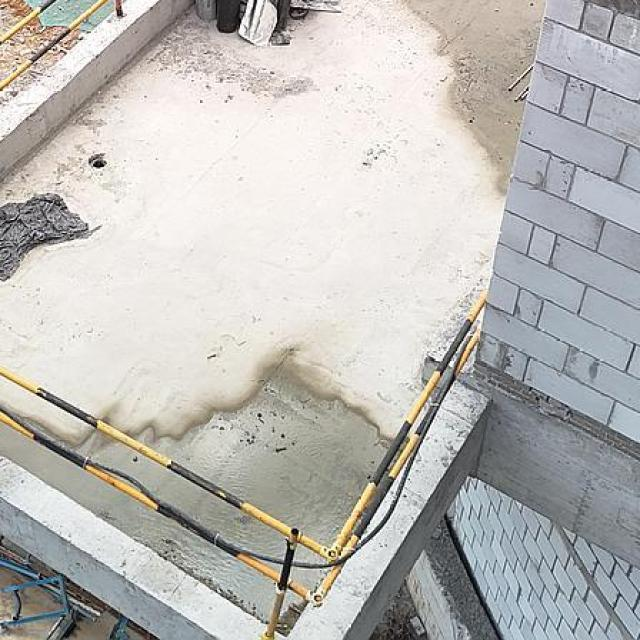edge_guardrail: (0, 290, 493, 639), (0, 0, 121, 91)
